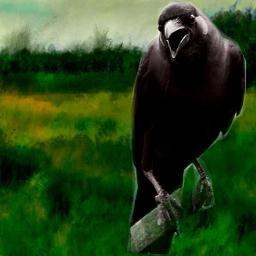Crow: (127, 1, 246, 254)
